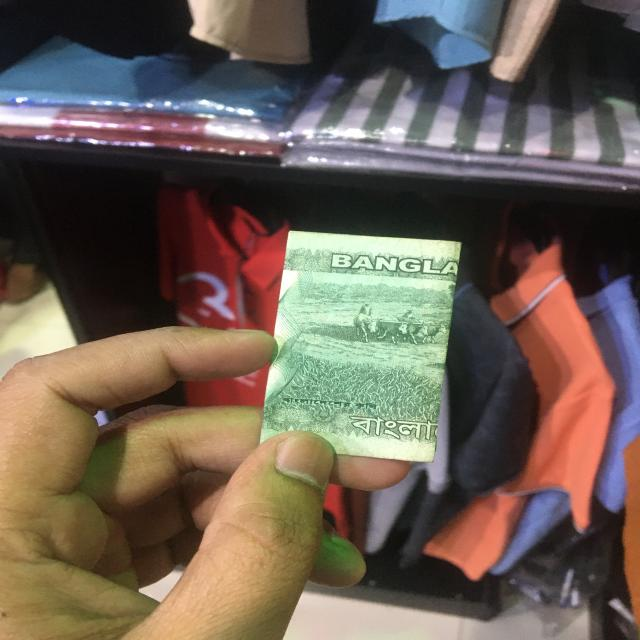Taka: (284, 232, 446, 462)
